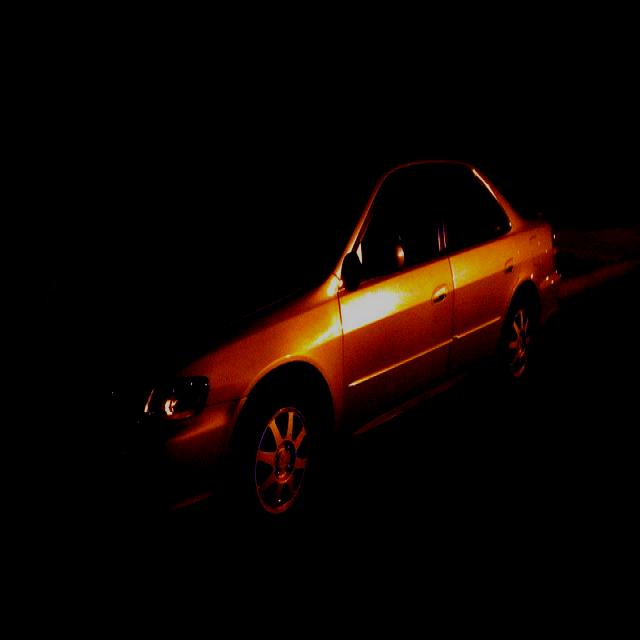Car: (8, 155, 556, 520)
